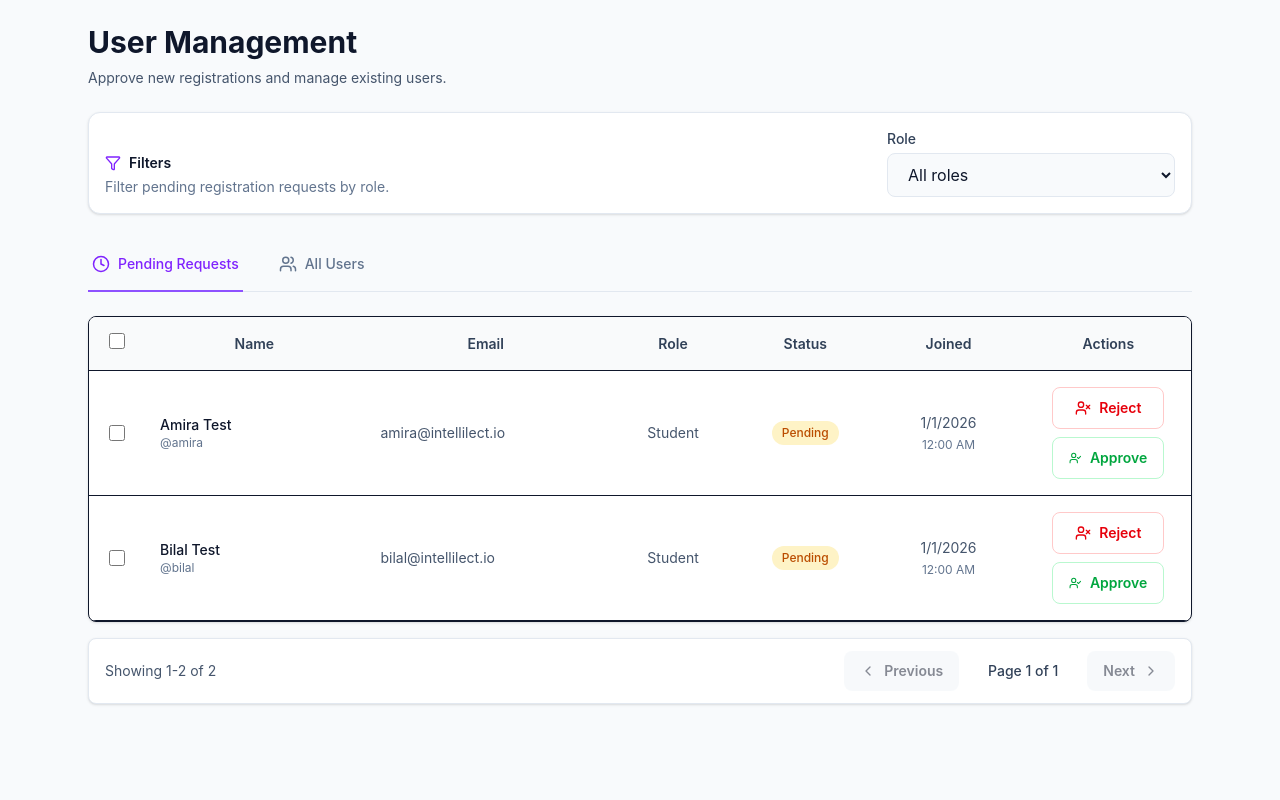
it: AdminDashboard bulk selection › select-all covers only the rows on this page
Expected: the text "Amira Test" is shown, [160, 416, 232, 433]
Click the checkbox named "Select all accounts on this page" at (116, 341), box [108, 333, 124, 349]
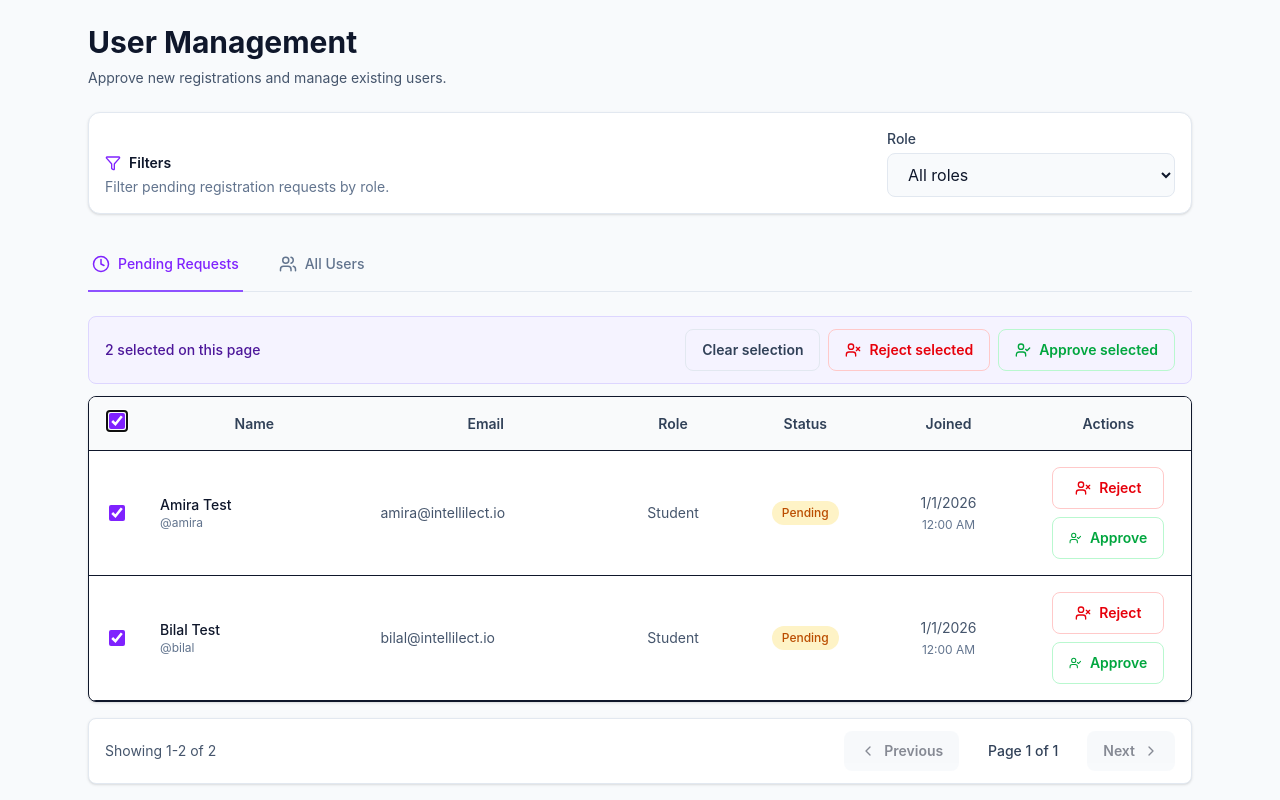
Result: the text "2 selected on this page" is shown at [105, 340, 260, 360]
